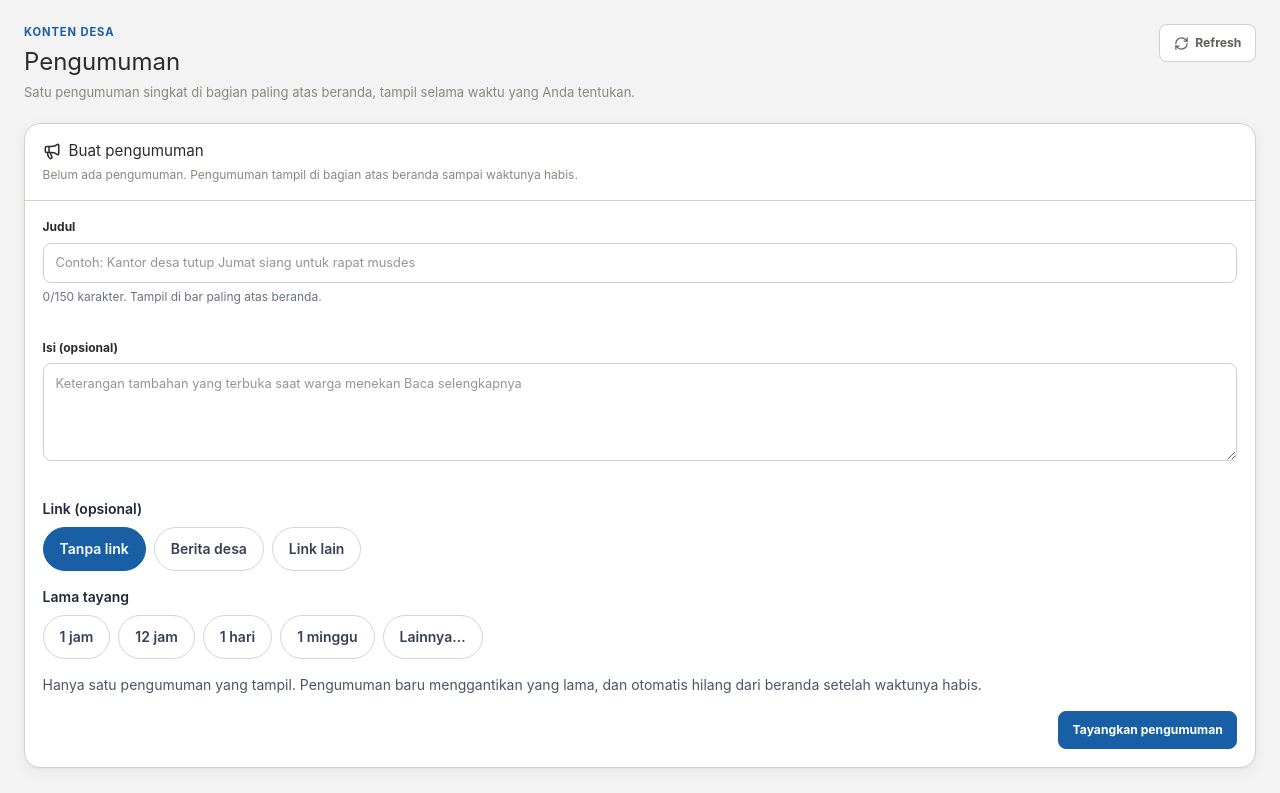
Test: KelolaPengumumanPage › requires a news item when "Berita desa" is chosen
The image size is (1280, 793).
Type "Posyandu" into the field labelled "Judul" at [640, 263], box [43,243,1237,283]
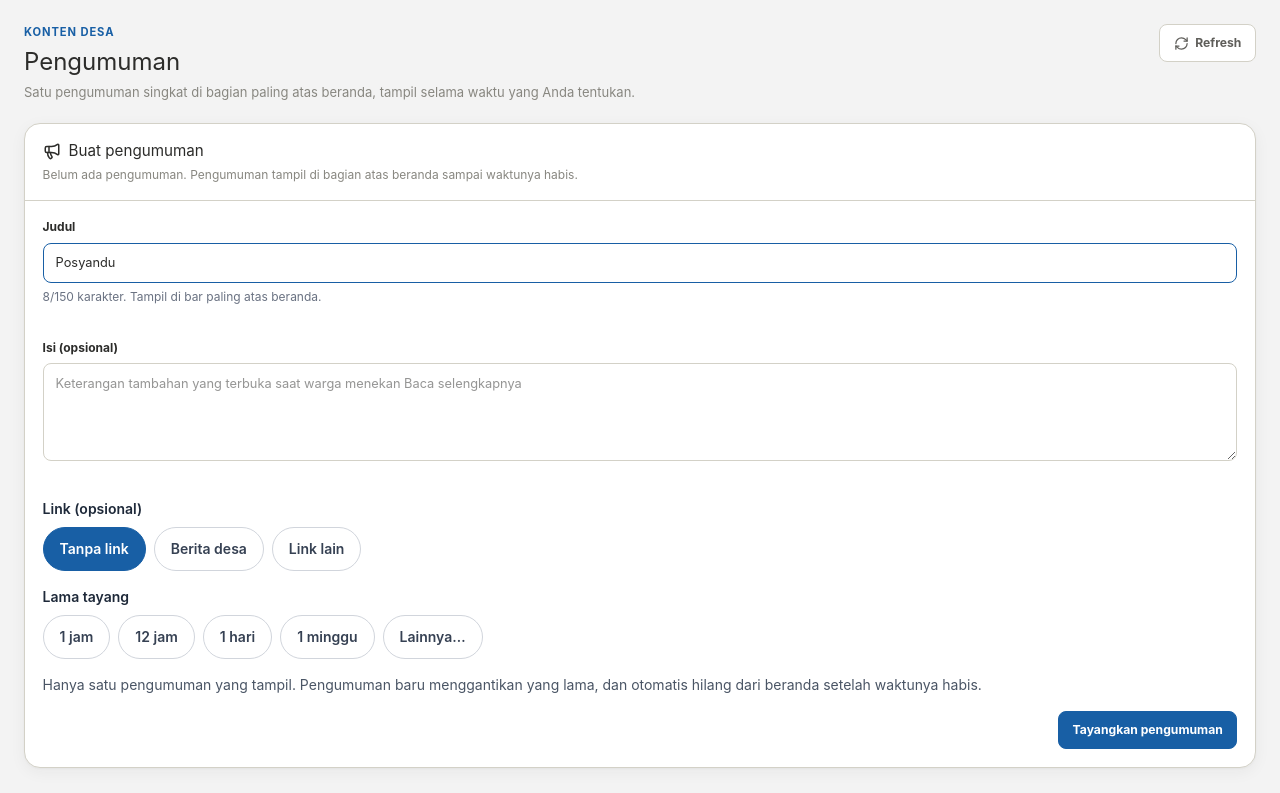
Click the button "Berita desa" at [209, 549], box [154,527,264,571]
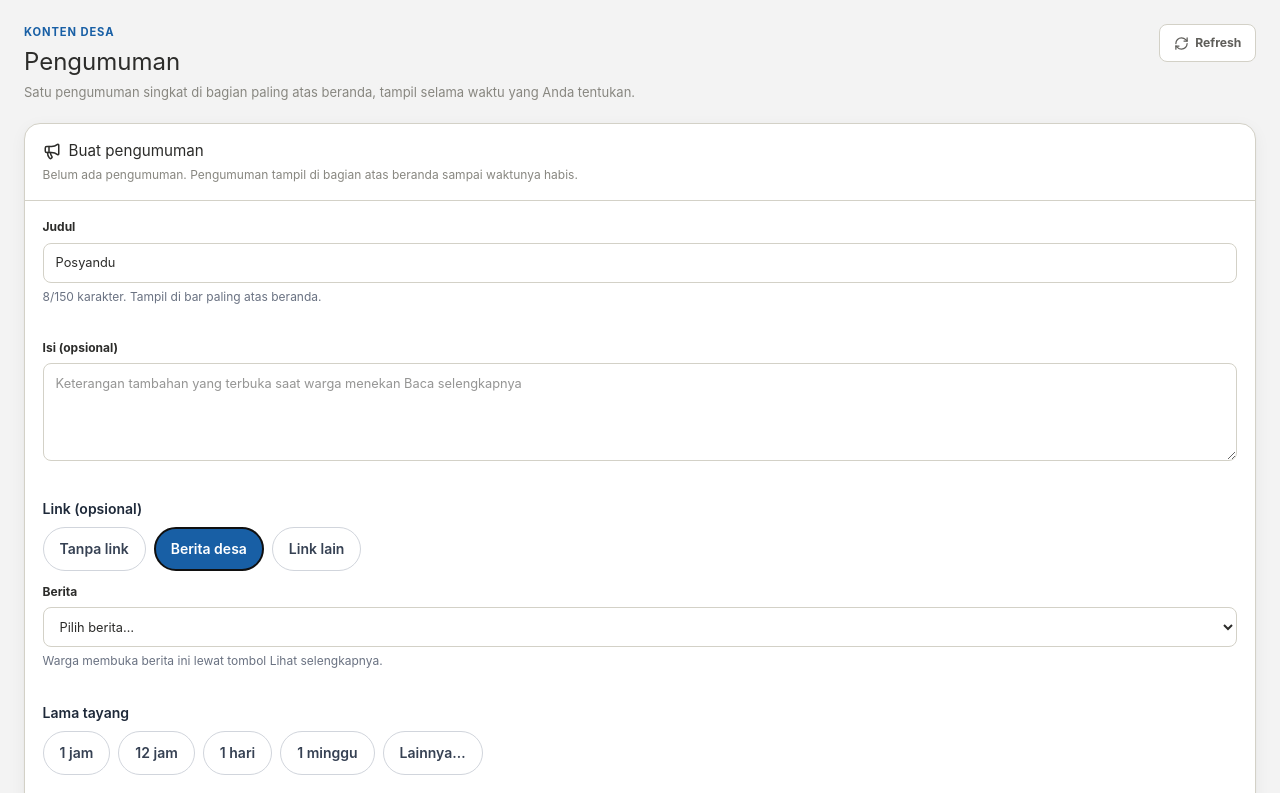
Click the button "1 hari" at [238, 753], box [203,731,272,775]
(page scrolled)
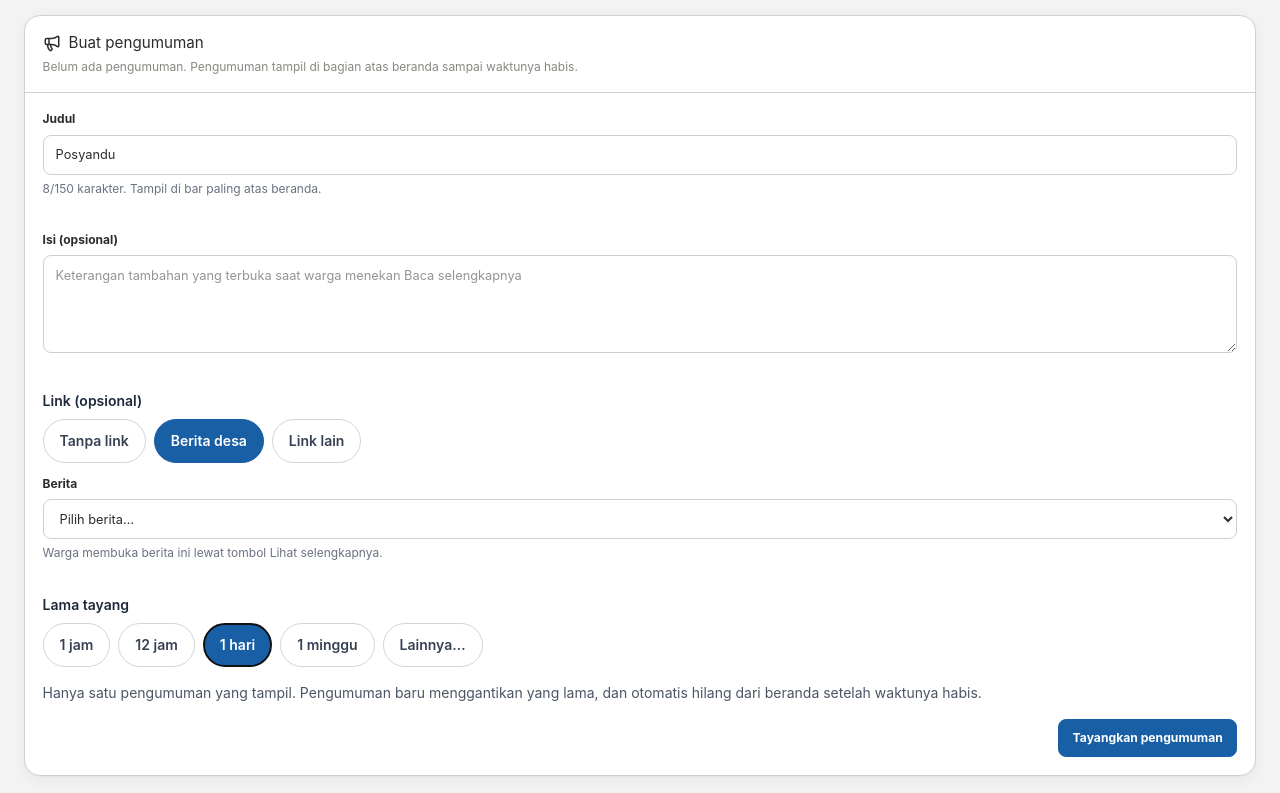
Click the button "Tayangkan pengumuman" at [1148, 738], box [1058,719,1237,757]
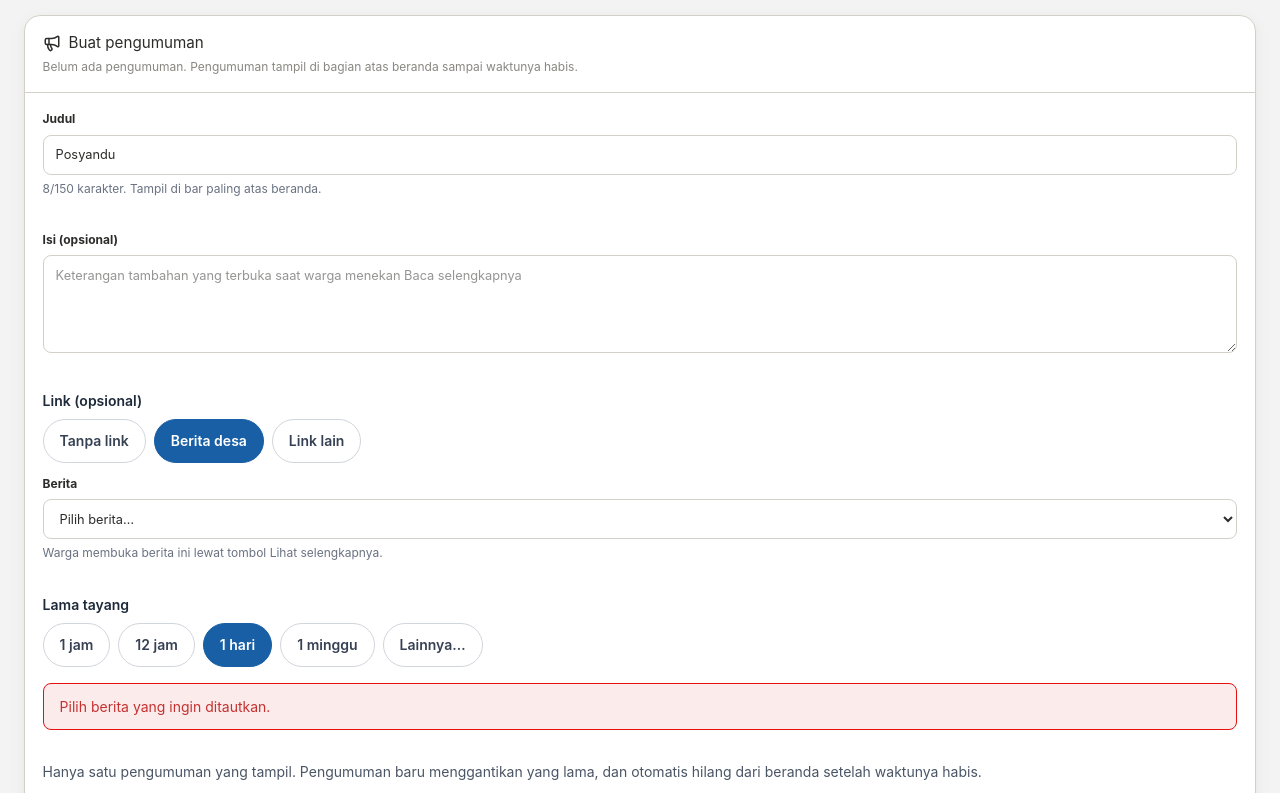
Expected: the message reads "Pilih berita yang ingin ditautkan.", [60,698,270,715]
